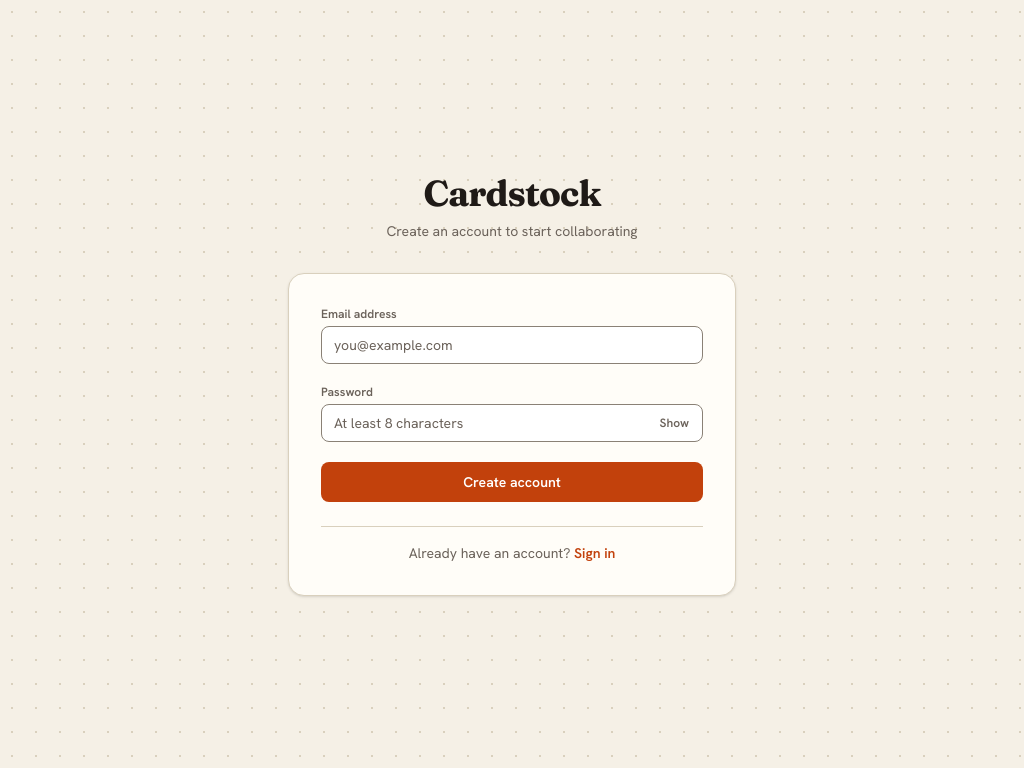
Test case: AuthPage › Form Validation › validates password length of at least 8 chars in register mode
The image size is (1024, 768).
Type "alice@example.com" into the field labelled "Email address" at (512, 344), box [321,326,703,364]
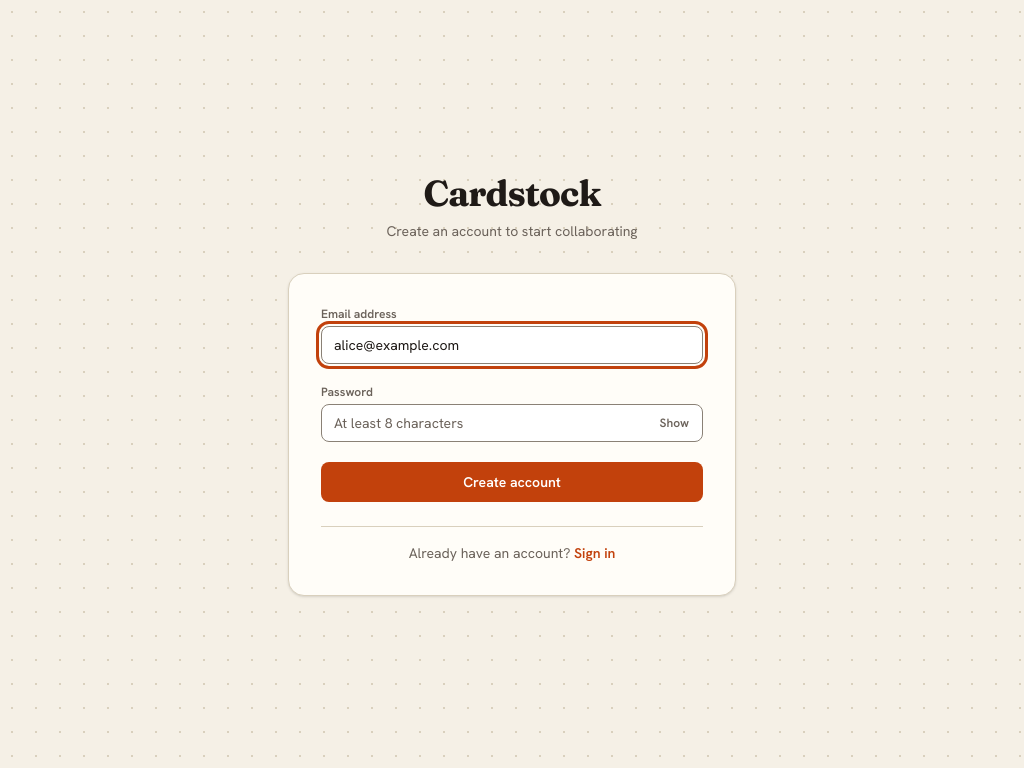
Type "short" into the password field labelled "Password" at (512, 422), box [321,404,703,442]
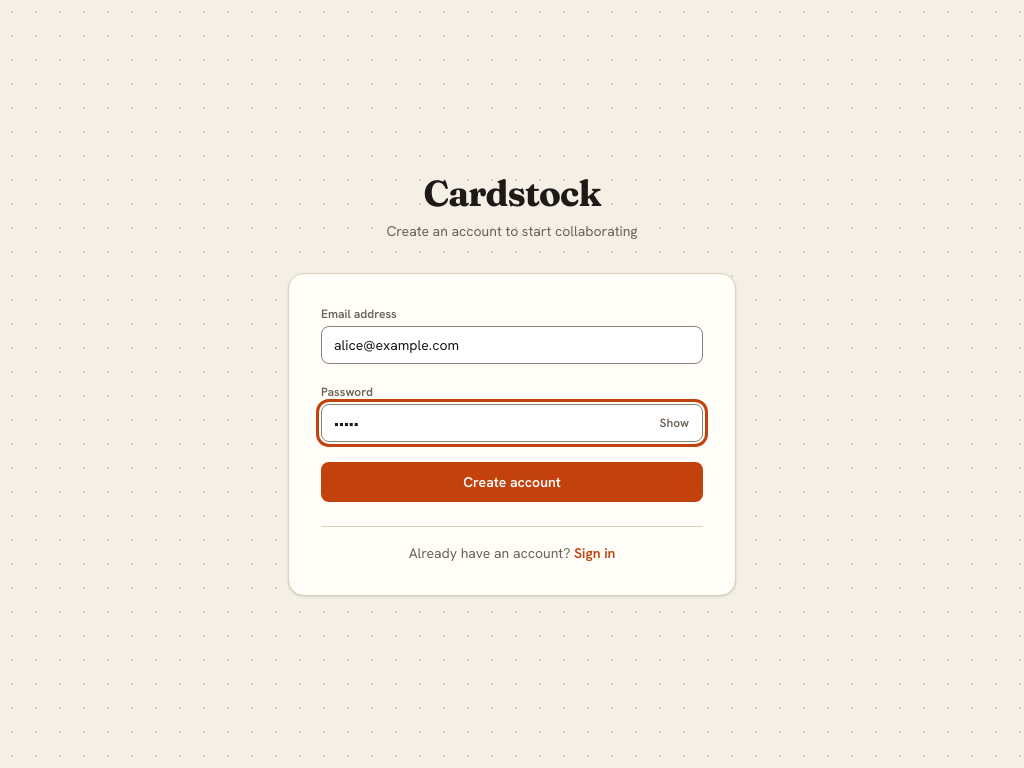
Click the button "Create account" at (512, 482), box [321,462,703,502]
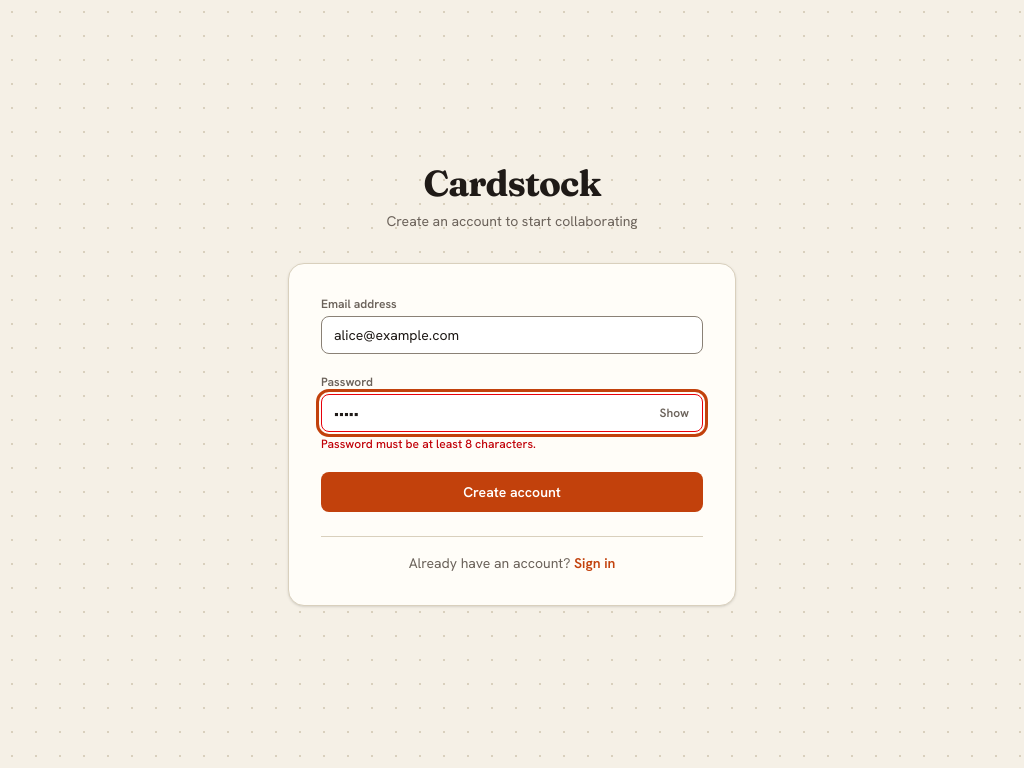
expect the text "Password must be at least 8 characters." is shown: met, box [321,436,536,452]
